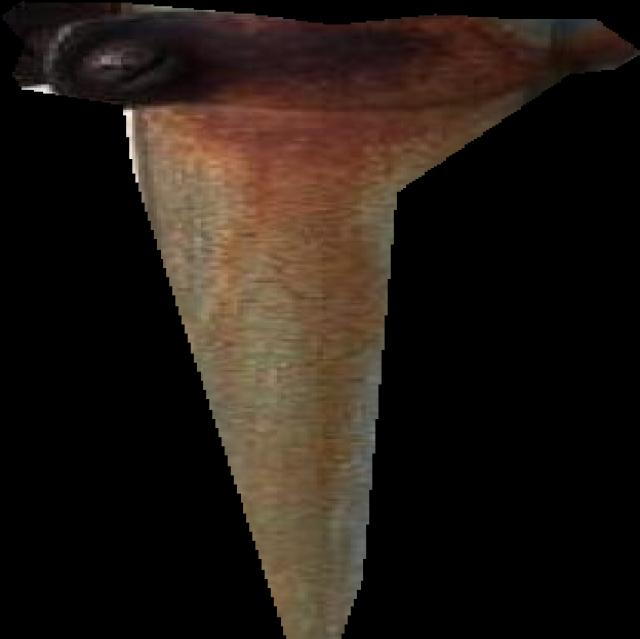Uniform Corrosion: (0, 1, 640, 639)
